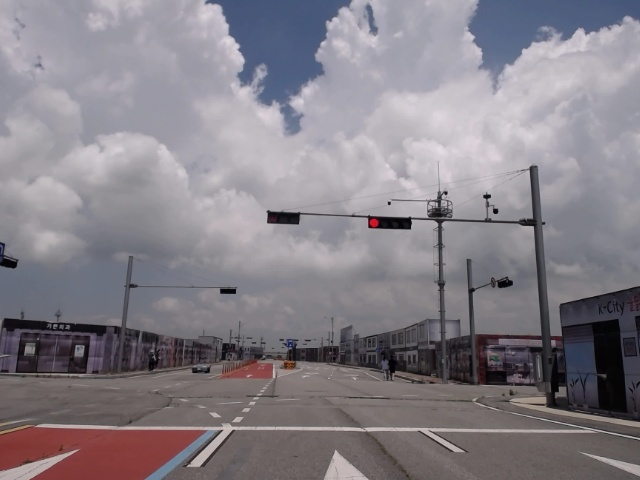red_4: (368, 217, 411, 229)
